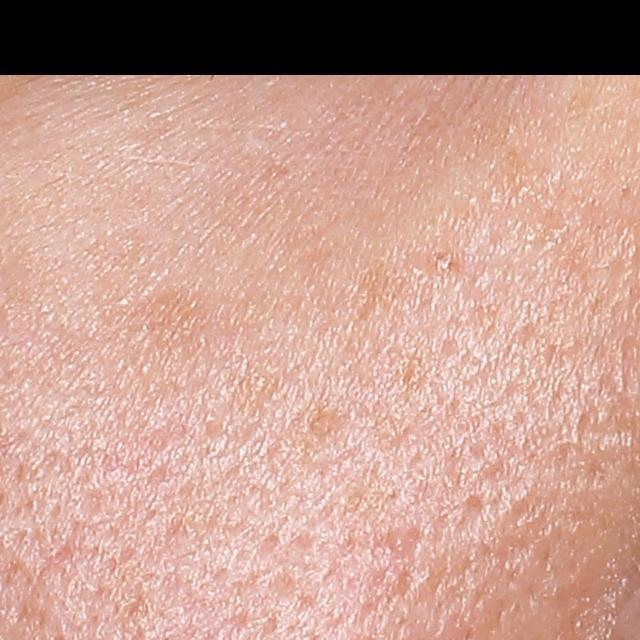melasma: (138, 285, 215, 356)
